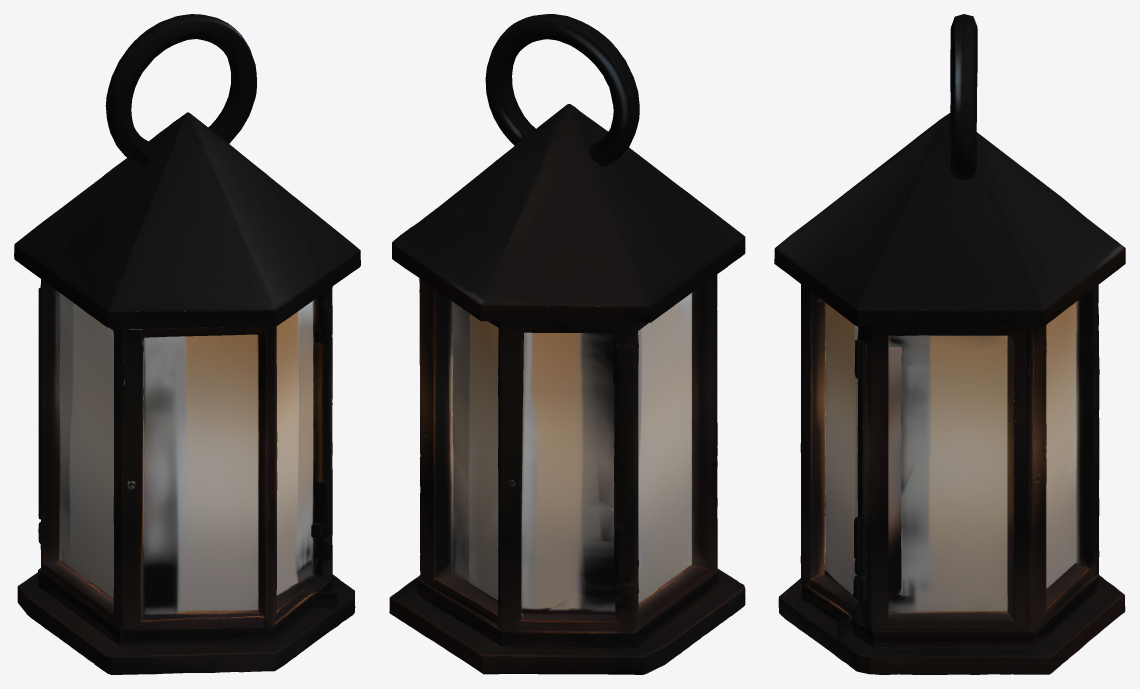
3 renders of one model, left to right at view 1: azimuth 30°, elevation 25°; view 2: azimuth 150°, elevation 25°; view 3: azimuth 270°, elevation 25°, orthographic.
Visible parts, largest first — view 1: world; view 2: world; view 3: world.
Part boxes in pixels (bbox=[...]): world: bbox=[14, 14, 360, 674]; world: bbox=[389, 14, 745, 674]; world: bbox=[774, 14, 1125, 674].
Bounding box in the file's own units: 0.4547 × 1 × 0.5382.
1 material, 1 textured.
